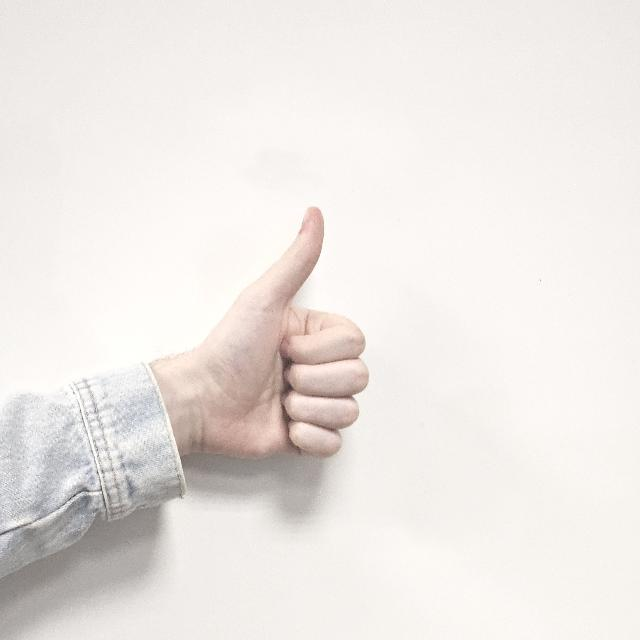Start: (153, 204, 369, 482)
